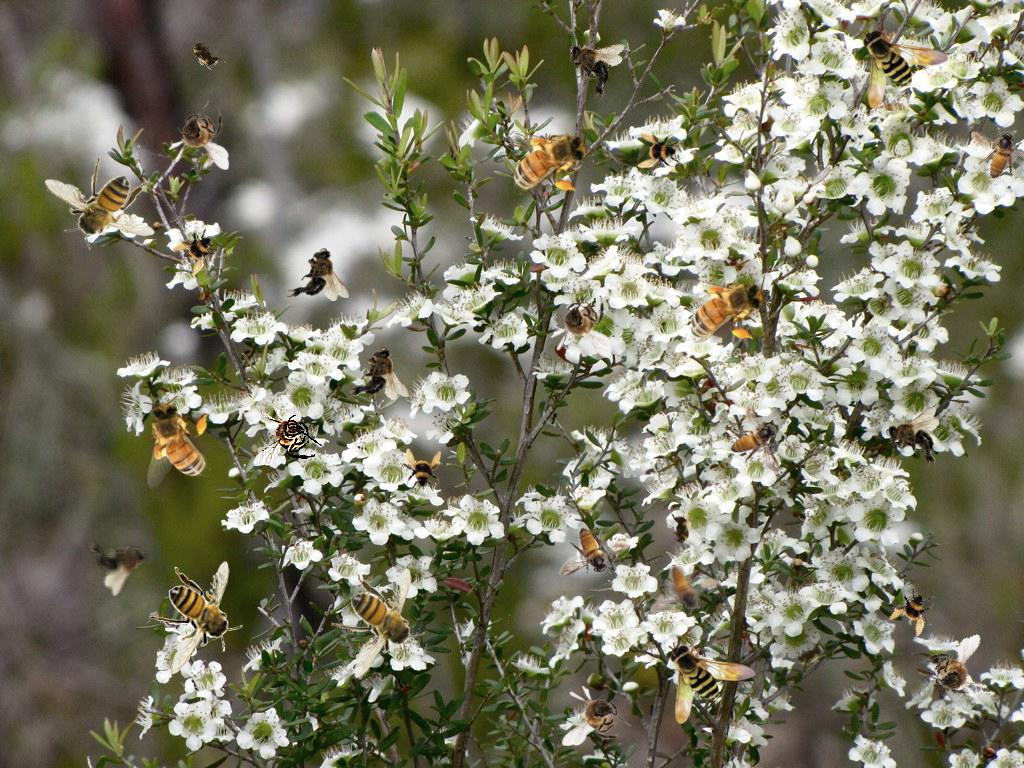Bee: (44, 156, 155, 250), (149, 561, 243, 672), (331, 568, 425, 679), (668, 642, 756, 724), (861, 27, 949, 109), (912, 633, 997, 713), (143, 396, 211, 489), (501, 127, 594, 195), (678, 275, 771, 343), (82, 520, 159, 600), (554, 26, 629, 104), (958, 109, 1024, 196), (562, 685, 632, 746), (168, 100, 229, 170), (253, 405, 323, 466), (550, 288, 611, 358), (167, 219, 231, 283), (885, 581, 945, 641), (730, 402, 780, 473), (559, 527, 630, 577), (650, 564, 721, 614), (886, 407, 939, 469), (347, 347, 409, 400), (287, 248, 349, 301), (183, 31, 227, 77), (637, 131, 681, 175), (399, 448, 443, 492), (786, 636, 832, 674), (670, 510, 692, 550)
